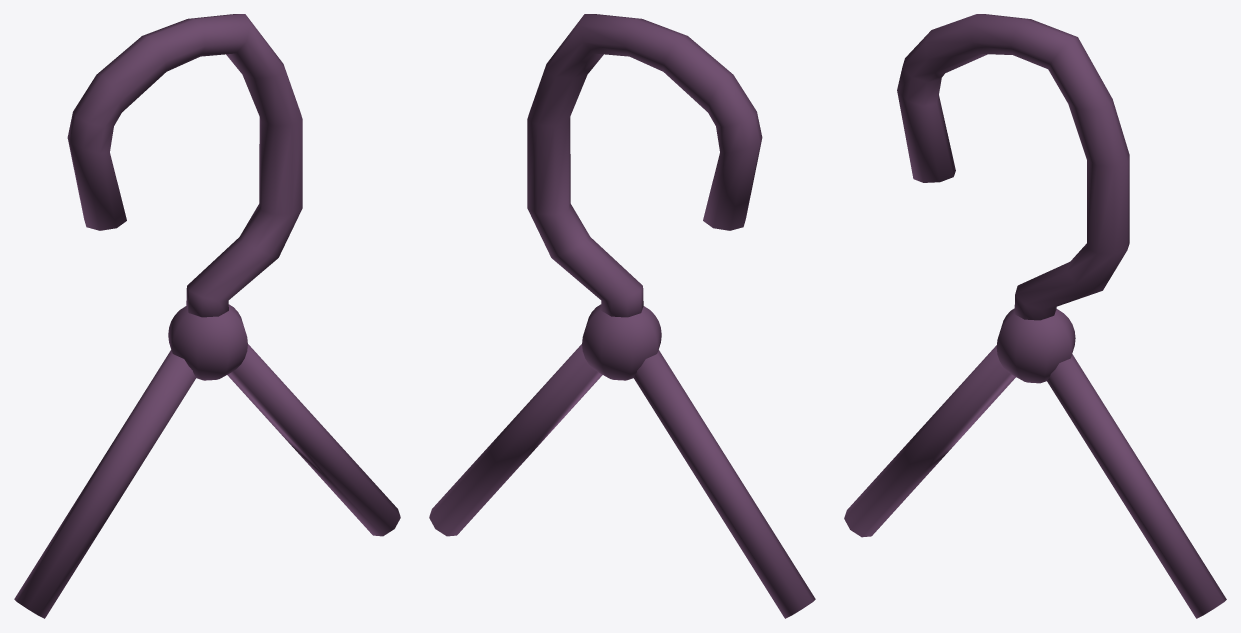
The model's file is Percha.fbx.
The picture shows the model from 3 angles, left to right: view 1: azimuth 30°, elevation 25°; view 2: azimuth 150°, elevation 25°; view 3: azimuth 330°, elevation 25°; orthographic projection.
Parts seen in each view (by area): view 1: Cylinder.112; view 2: Cylinder.112; view 3: Cylinder.112.
Boxes of the visible parts, x1,y1,x2,y2 form: Cylinder.112: [14, 14, 400, 618]; Cylinder.112: [429, 14, 815, 618]; Cylinder.112: [844, 14, 1226, 618].
Bounding box in the file's own units: 26.54 × 37.23 × 4.98.
